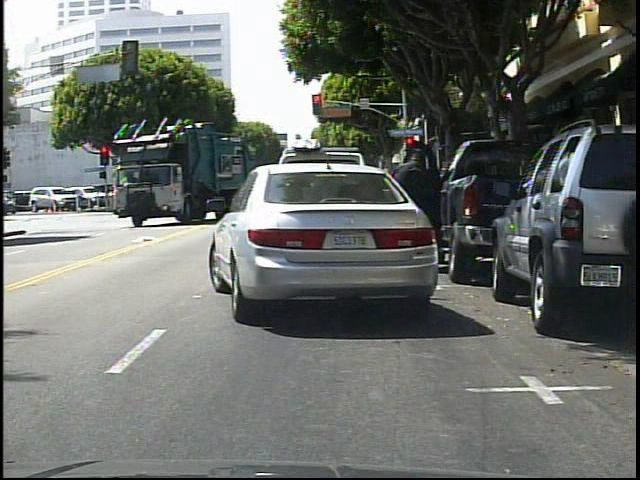person: (389, 145, 449, 282)
